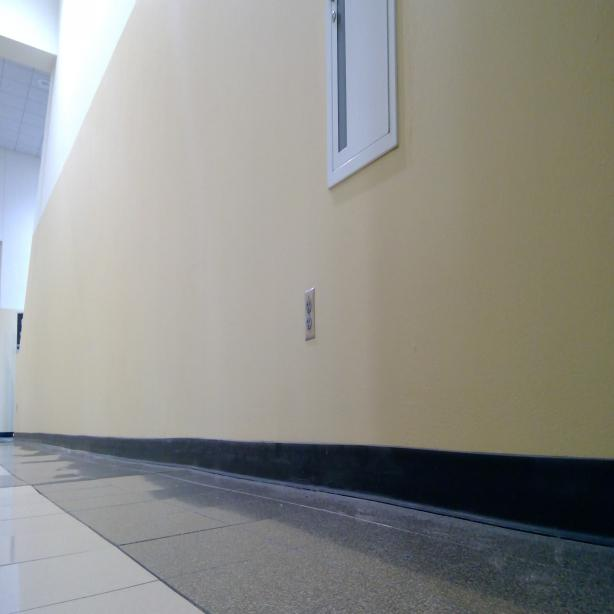typeb: (305, 298, 313, 314), (306, 315, 314, 331)
